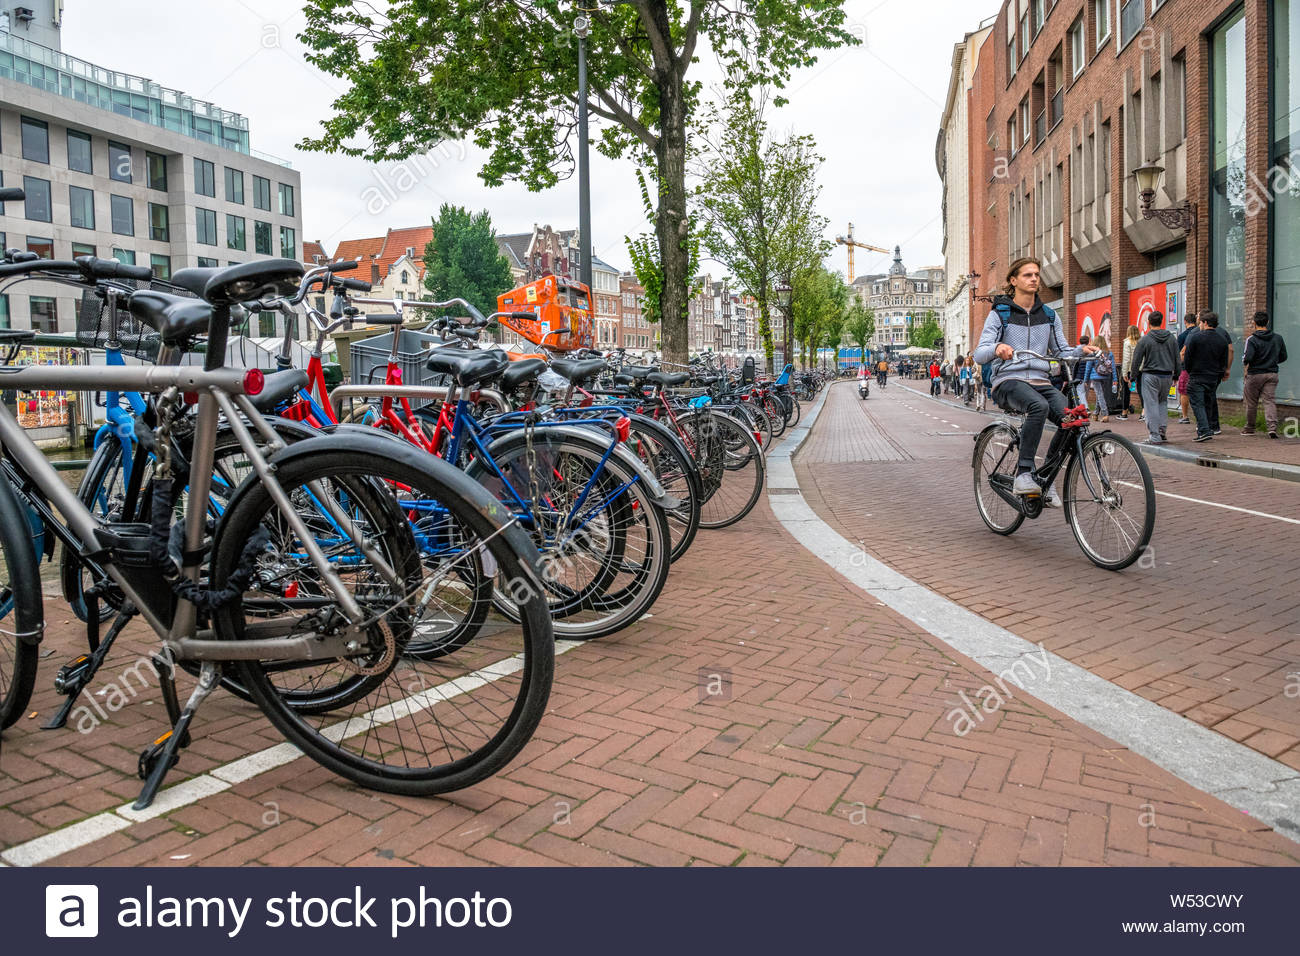commuter: (970, 258, 1159, 578)
